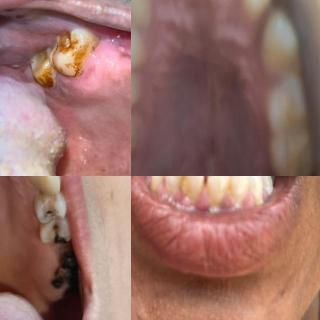calculus: (29, 70, 63, 93), (206, 181, 224, 216), (220, 179, 238, 205), (177, 176, 193, 202)
cavities: (42, 221, 70, 251), (37, 204, 63, 226)
stains: (46, 24, 96, 76), (27, 51, 69, 90)
